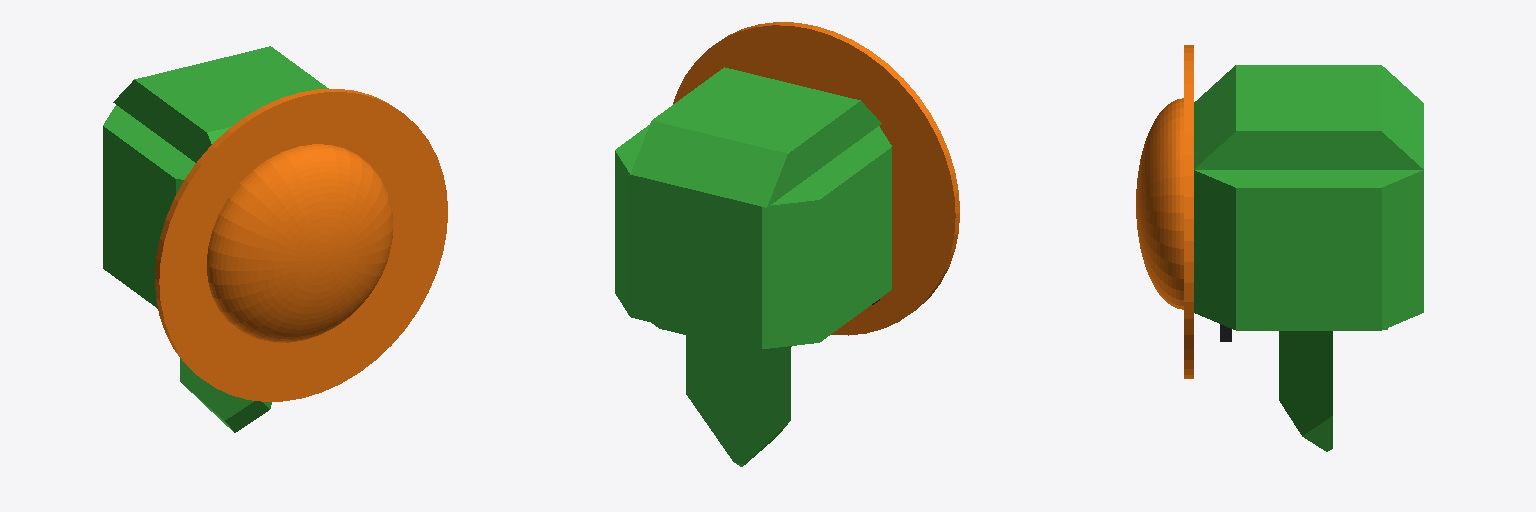
File: tinker.obj
3 views of the same model, side by side, from view 1: azimuth 30°, elevation 25°; view 2: azimuth 150°, elevation 25°; view 3: azimuth 270°, elevation 25° (orthographic).
Visible parts, largest first — view 1: obj_0; view 2: obj_0; view 3: obj_0.
Boxes of the visible parts, <box> form: obj_0: <box>103,46,447,432</box>; obj_0: <box>615,22,959,466</box>; obj_0: <box>1136,45,1423,451</box>.
Bounding box in the file's own units: 55 × 71 × 47.5.